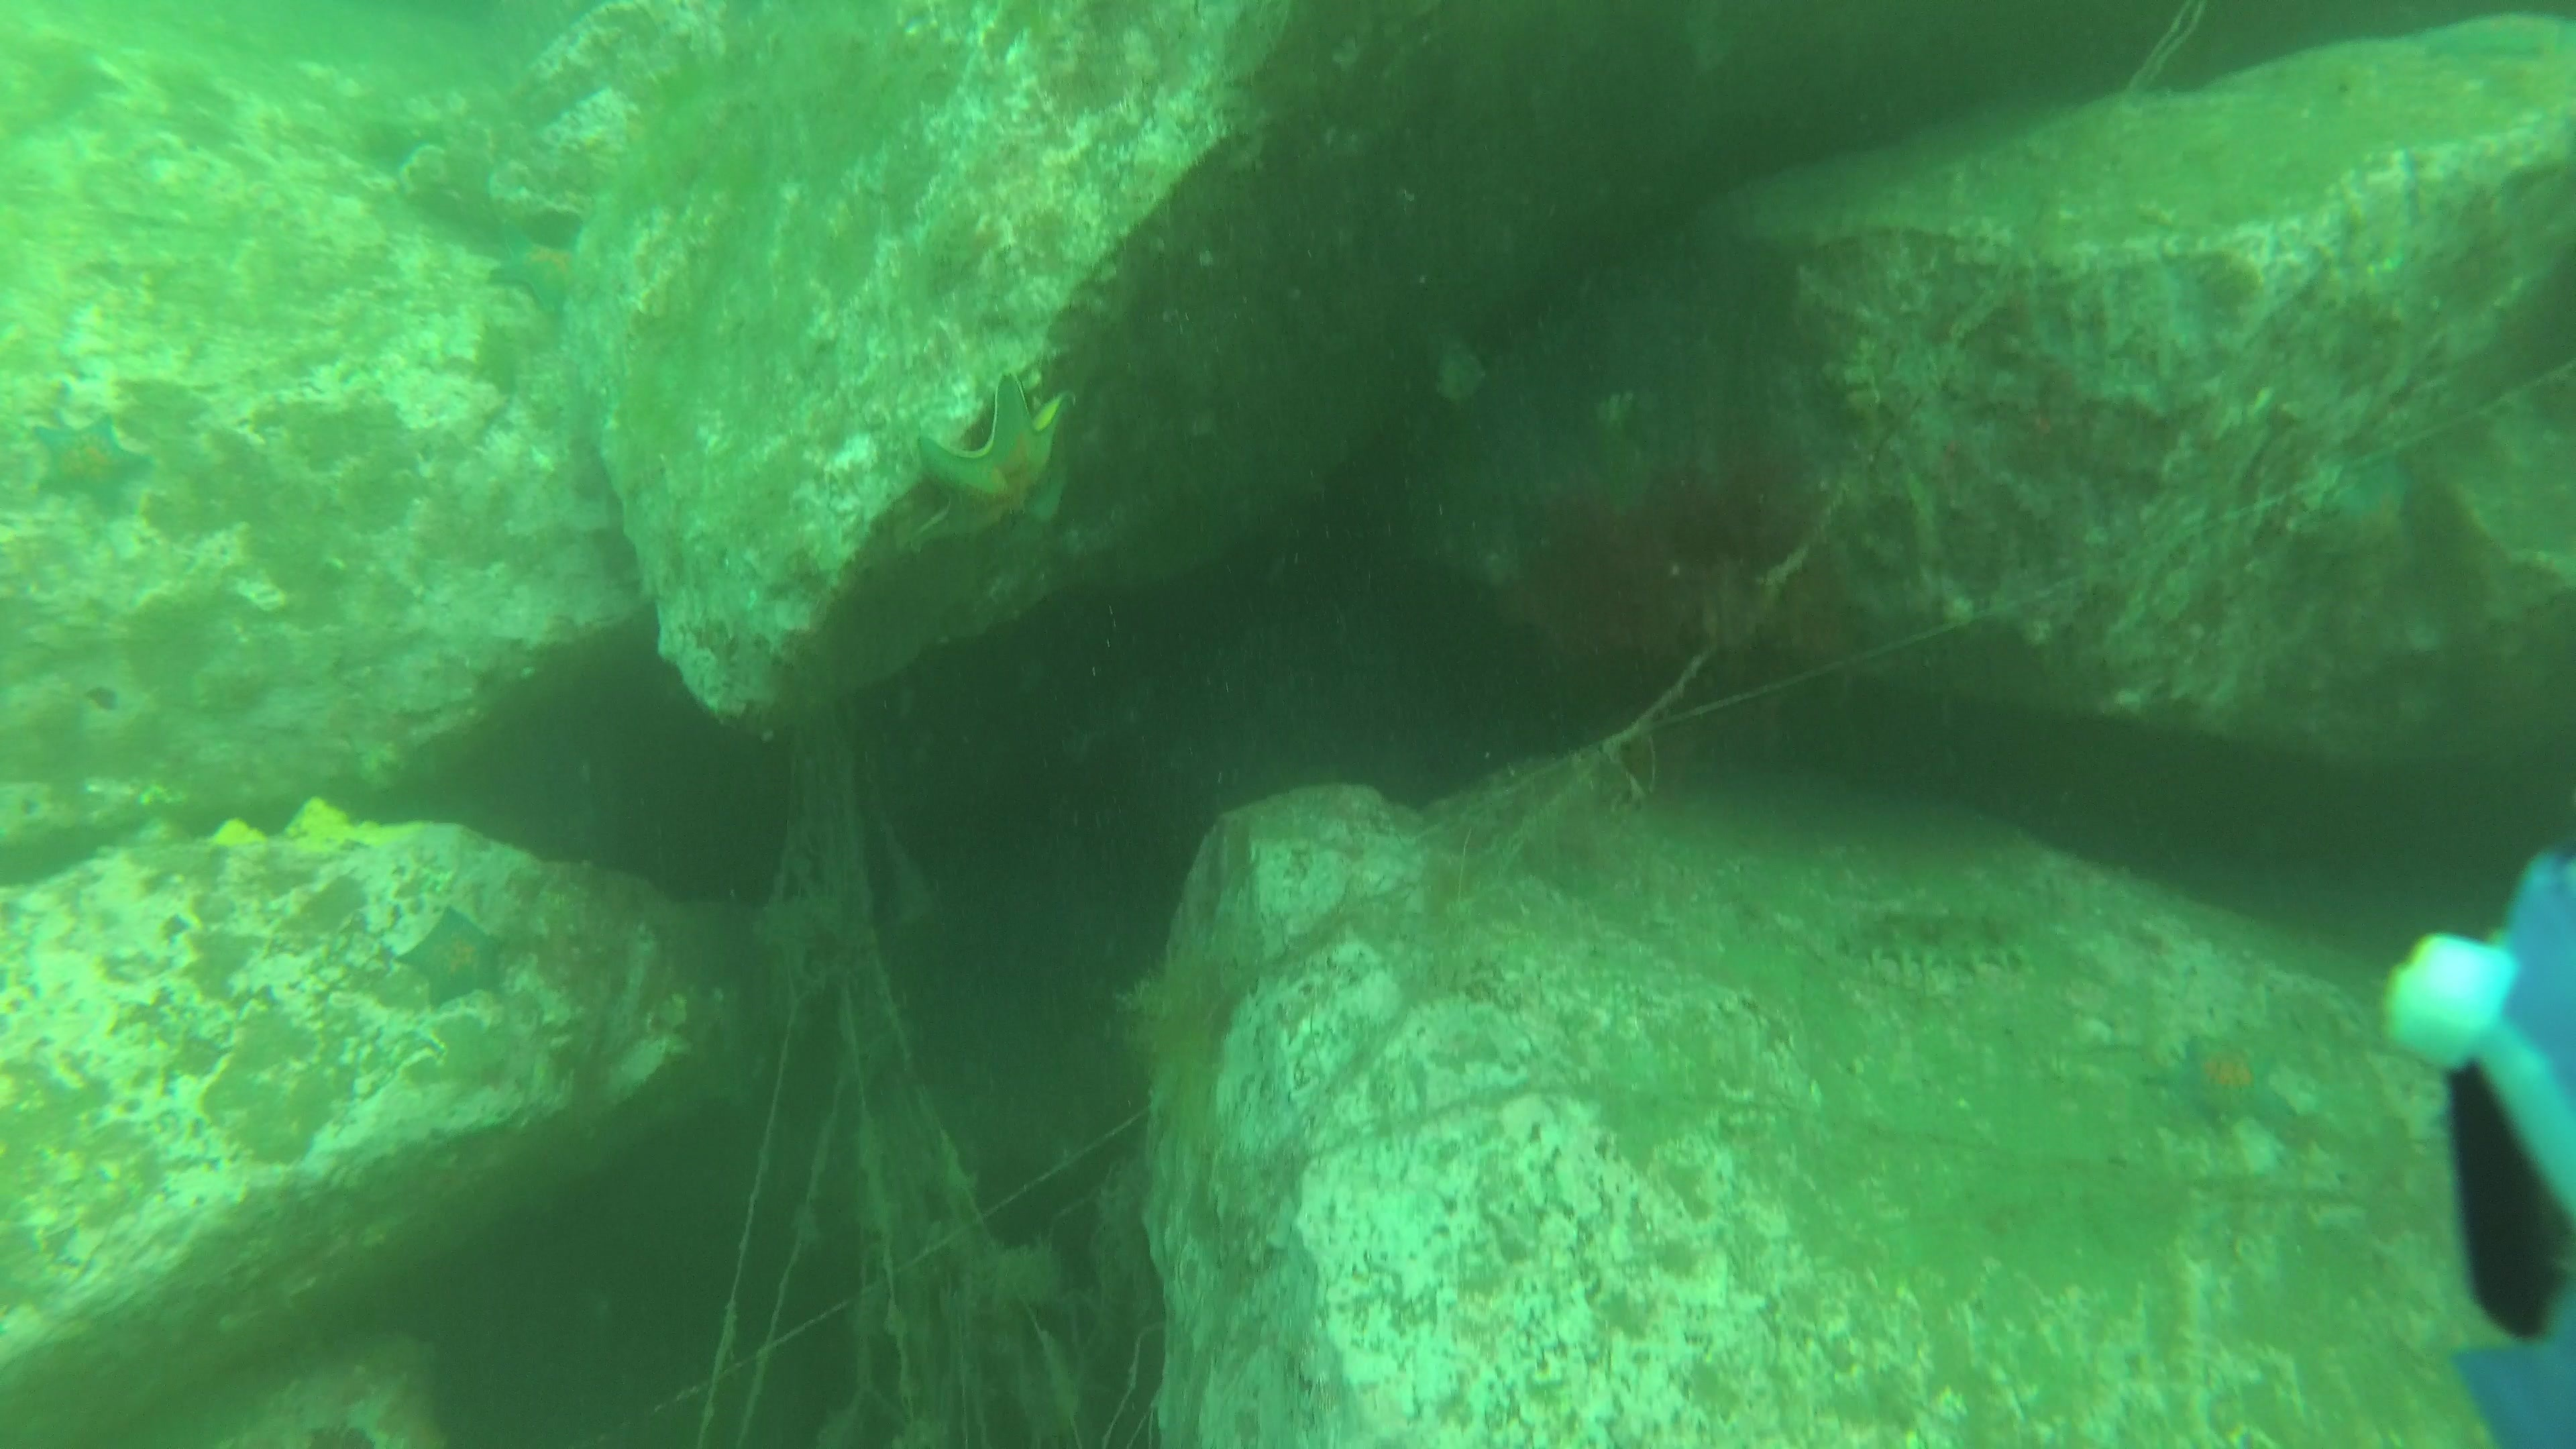holothurian: (1849, 893, 2040, 987)
starfish: (908, 364, 1077, 550), (389, 899, 518, 1017), (2164, 1024, 2300, 1136), (28, 405, 145, 522), (481, 214, 591, 320), (2408, 21, 2553, 67)
